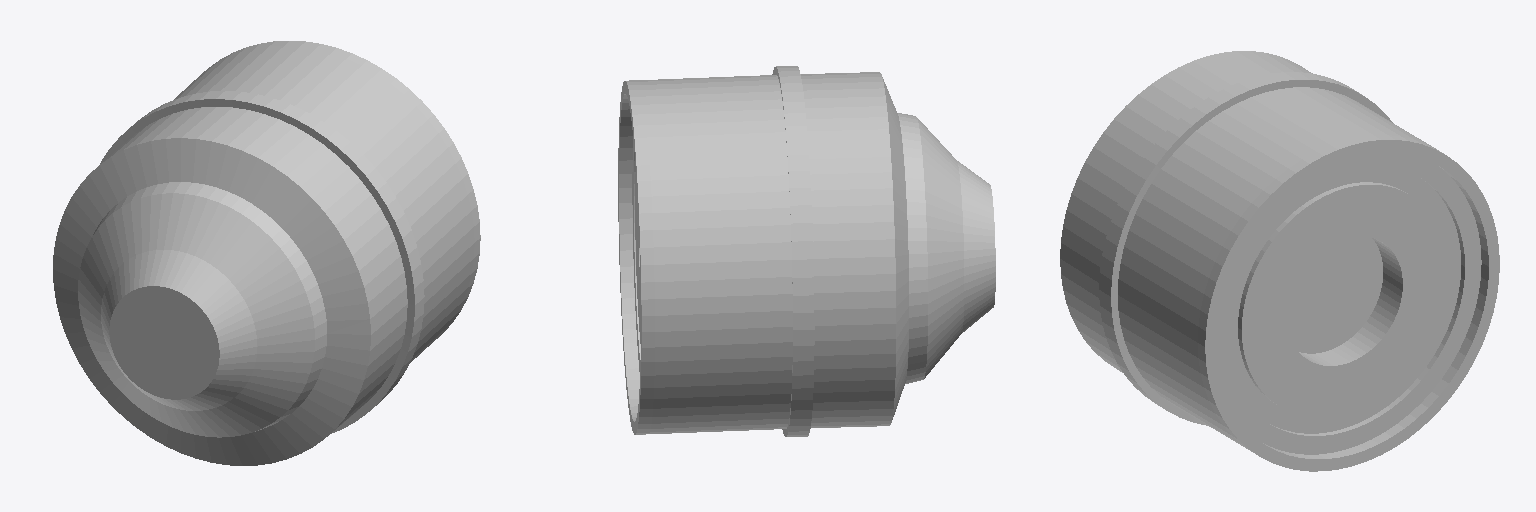
The model's file is filter_screen.obj.
The picture shows the model from 3 angles: view 1: azimuth 30°, elevation 25°; view 2: azimuth 150°, elevation 25°; view 3: azimuth 270°, elevation 25°; orthographic projection.
Visible parts, largest first — view 1: Cilindre.005_Cilindre.001; view 2: Cilindre.005_Cilindre.001; view 3: Cilindre.005_Cilindre.001.
Part boxes in pixels (x1,y1,x2,y2): Cilindre.005_Cilindre.001: (53,41,480,465); Cilindre.005_Cilindre.001: (618,66,995,436); Cilindre.005_Cilindre.001: (1060,51,1499,471).
Size of the model in its own units: 0.7295 by 0.6268 by 0.742.